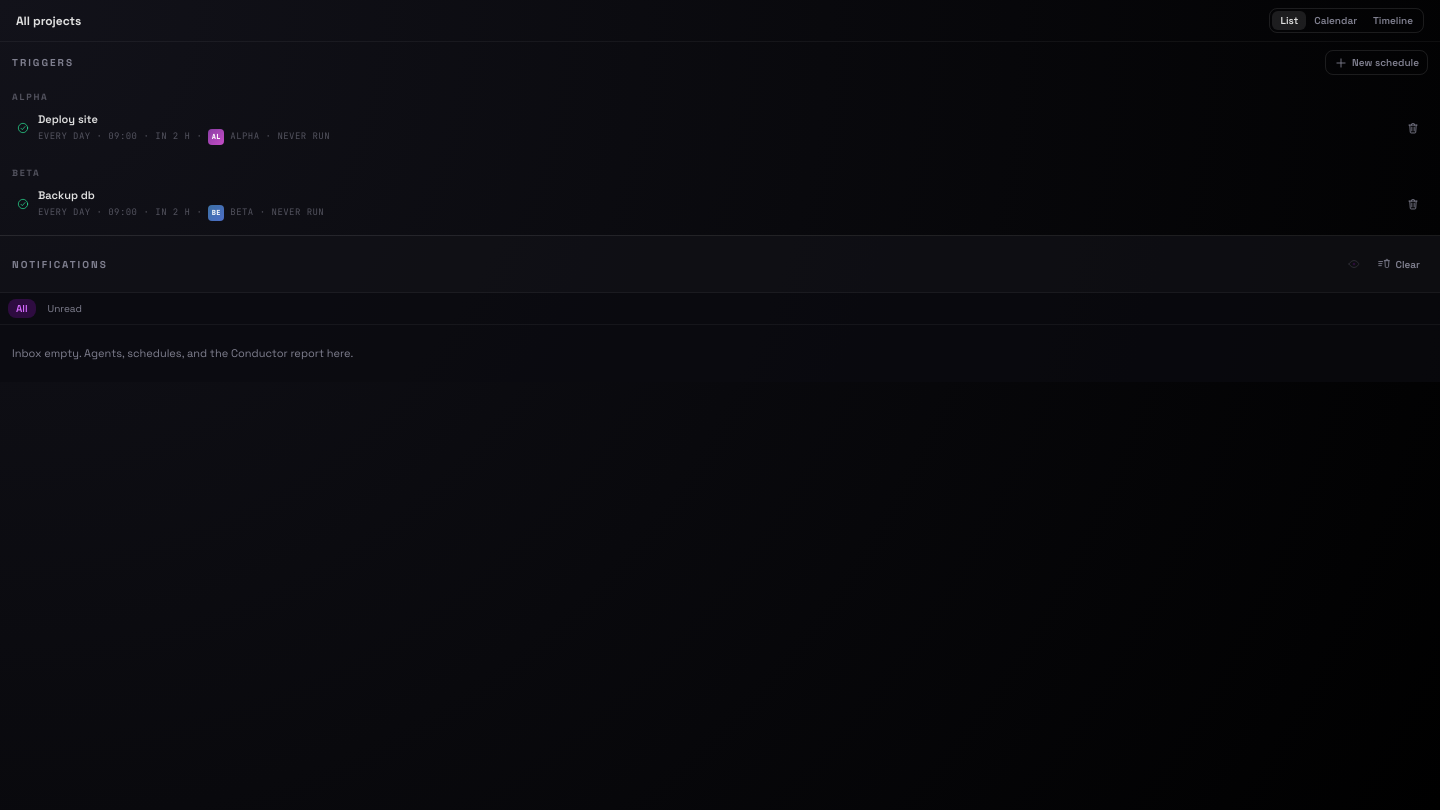
Test: calendar view › says so when runs were cut and when the future could not be computed
Click the radio button with test id "schedule-view-calendar".
click(1336, 20)  # box [1306,11,1365,30]
(page scrolled)
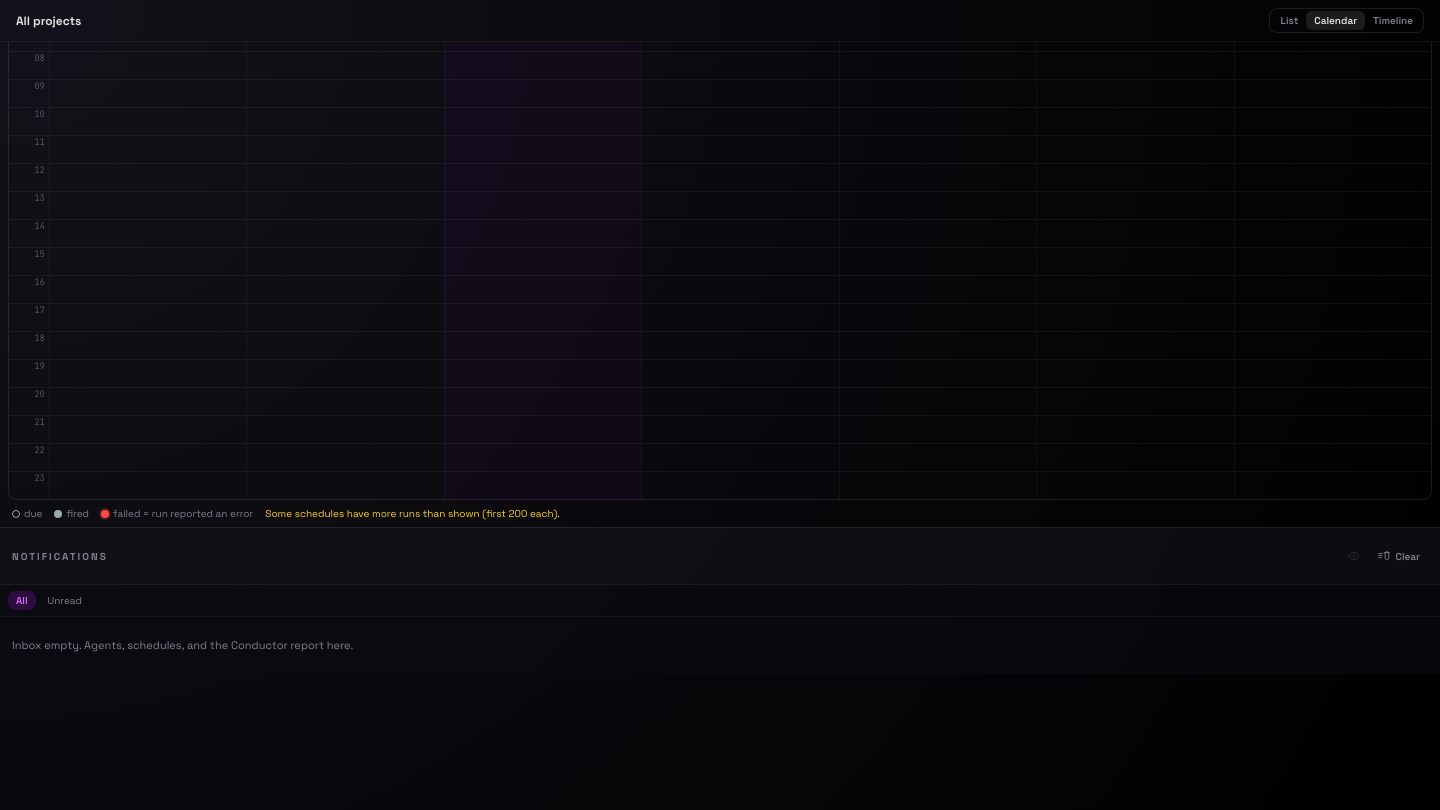
Check: the text "Some schedules have more runs than shown (first 200 each)." is shown, box [265,506,560,521]
